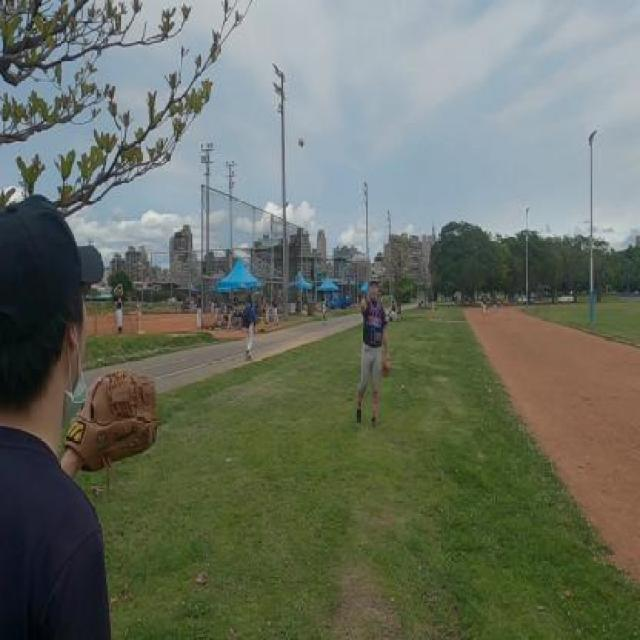baseball: (298, 137, 304, 148)
